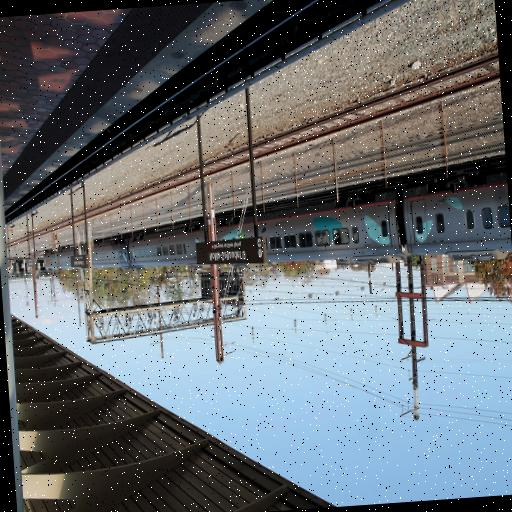platform_edge: (0, 0, 289, 213)
